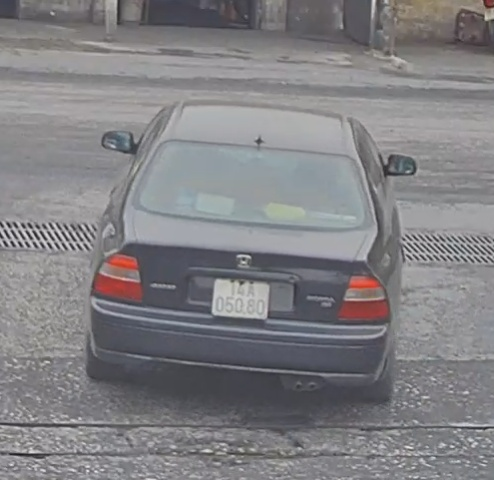vehicle plate: (213, 270, 272, 319)
